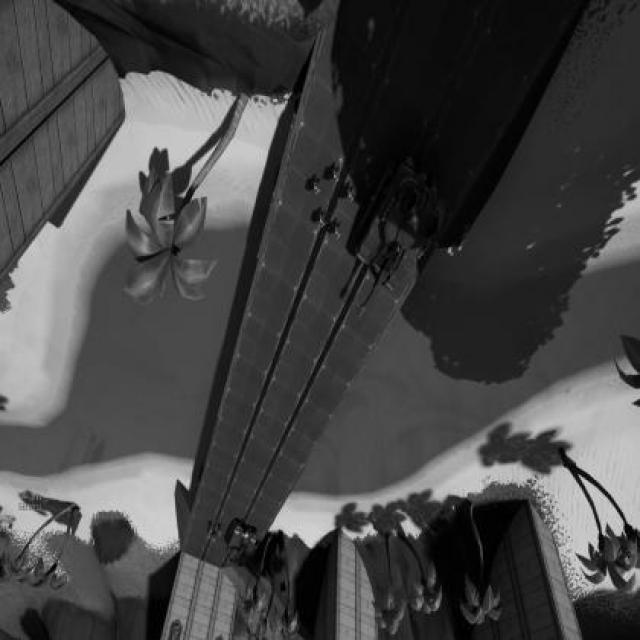tank: (356, 149, 446, 319), (226, 518, 257, 568)
